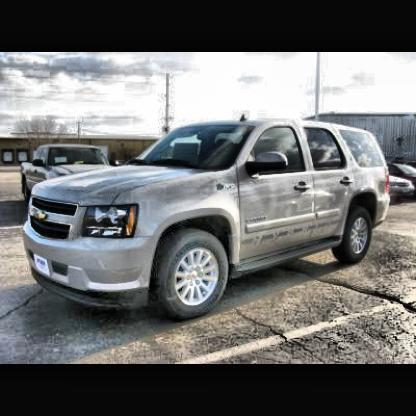Chevrolet Tahoe Hybrid SUV 2012: (24, 115, 393, 323)
